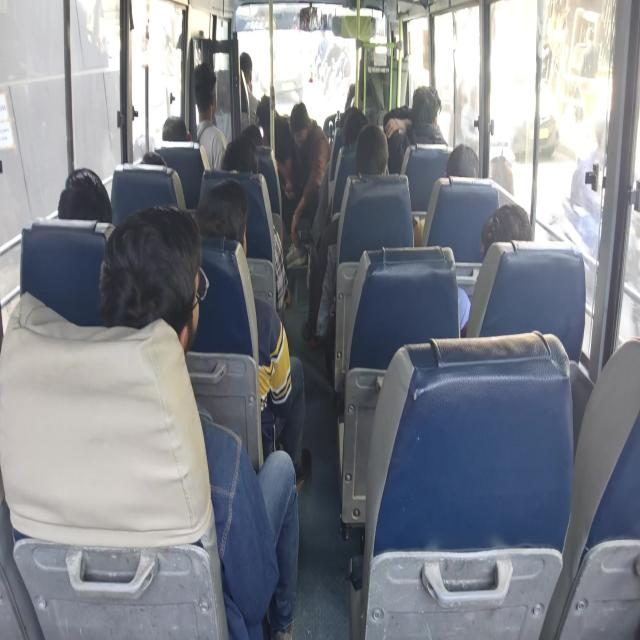person: (98, 204, 300, 638), (194, 178, 311, 491), (301, 123, 389, 346), (221, 135, 291, 316), (458, 202, 532, 336), (412, 143, 479, 246), (288, 101, 330, 246), (384, 84, 447, 174), (193, 61, 227, 171), (58, 167, 112, 223), (480, 202, 532, 258), (239, 52, 259, 126), (445, 143, 479, 178), (489, 154, 514, 194), (162, 115, 191, 141)
